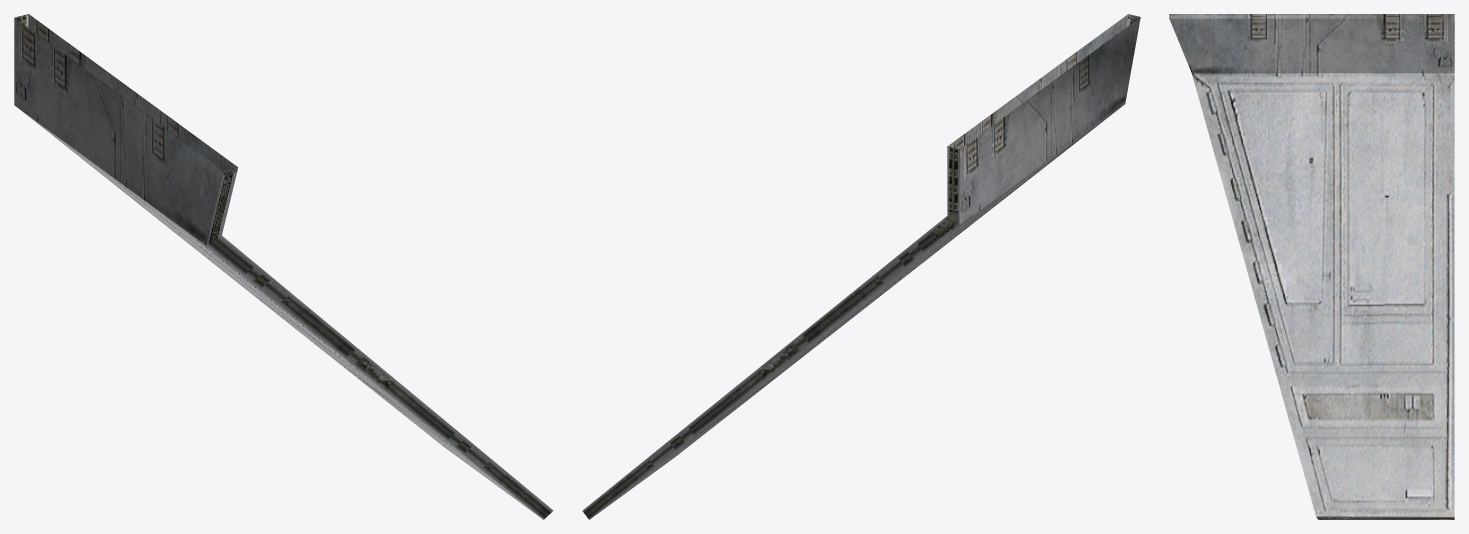
File: lambda_r_wing_faction_l1.fbx
3 views of the same model, side by side, from view 1: azimuth 30°, elevation 25°; view 2: azimuth 150°, elevation 25°; view 3: azimuth 270°, elevation 25° (orthographic). The views are drawn at different scales.
Parts seen in each view (by area): view 1: mesh_node; view 2: mesh_node; view 3: mesh_node.
Part boxes in pixels (x1,y1,x2,y2): mesh_node: (14,14,553,519); mesh_node: (582,14,1140,519); mesh_node: (1169,14,1454,519).
Size of the model in its own units: 13.26 by 15.46 by 11.
2 materials, 2 textured.
